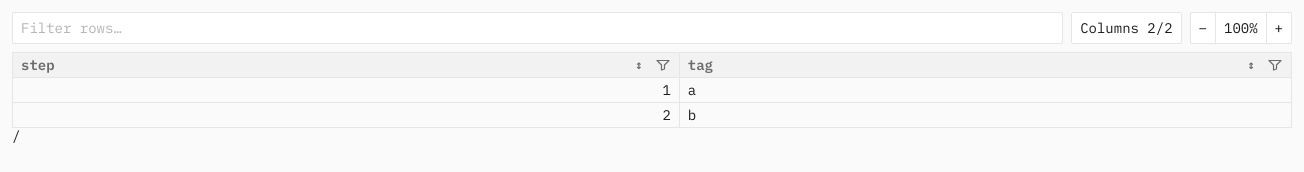
TableView › shows filter clauses and errors in an overlay while the field has focus, never as rows that push the table
Type "step>1, tag=b" into the field with placeholder "Filter rows…" at (538, 28), box [12,12,1063,44]
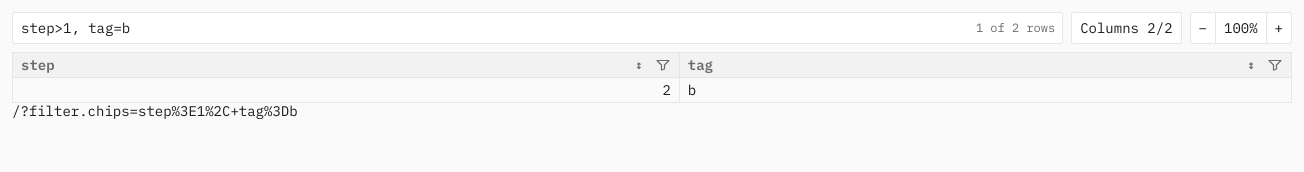
Focus the field with placeholder "Filter rows…" at (538, 28), box [12,12,1063,44]
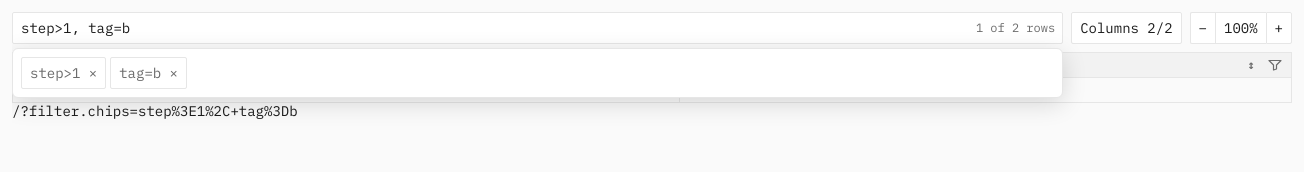
Click the button titled "Remove filter: tag=b" at (149, 73), box [110,57,187,89]
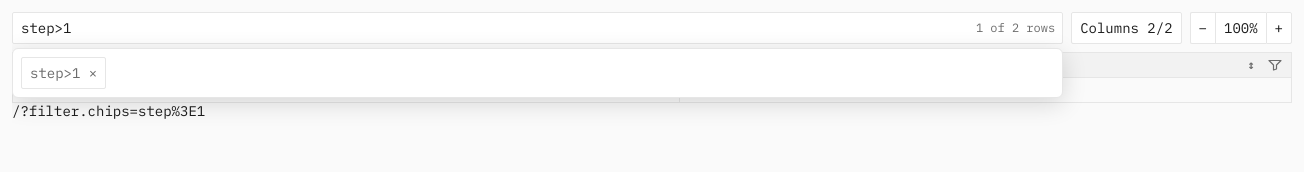
expect the text with test id "loc" shows "filter.chips=step%3E1": met, box [12,102,205,120]
Replace the text in the field with placeholder "Filter rows…" with "step~1" at (538, 28), box [12,12,1063,44]
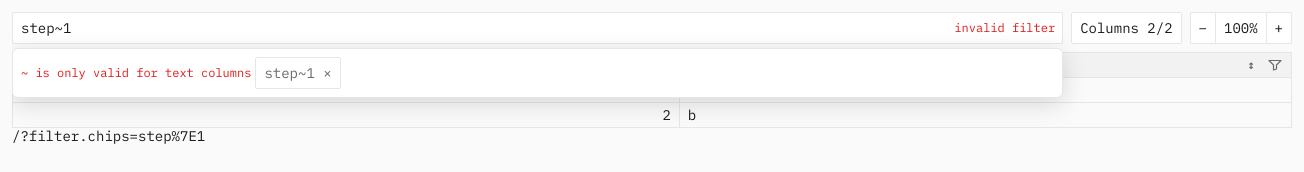
expect the text with class "filter-count" reads "invalid filter": met, box [954,20,1055,35]
expect the text with class "invalid" reads "~ is only valid for text columns": met, box [21,65,251,80]
Leave the field with placeholder "Filter rows…", box [12,12,1063,44]
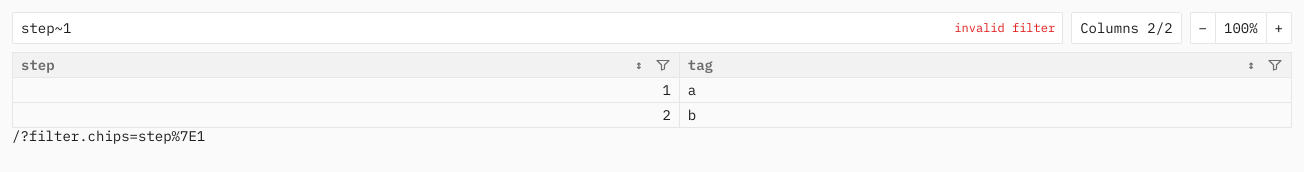
expect the element with class "filter-overlay" is gone: met
